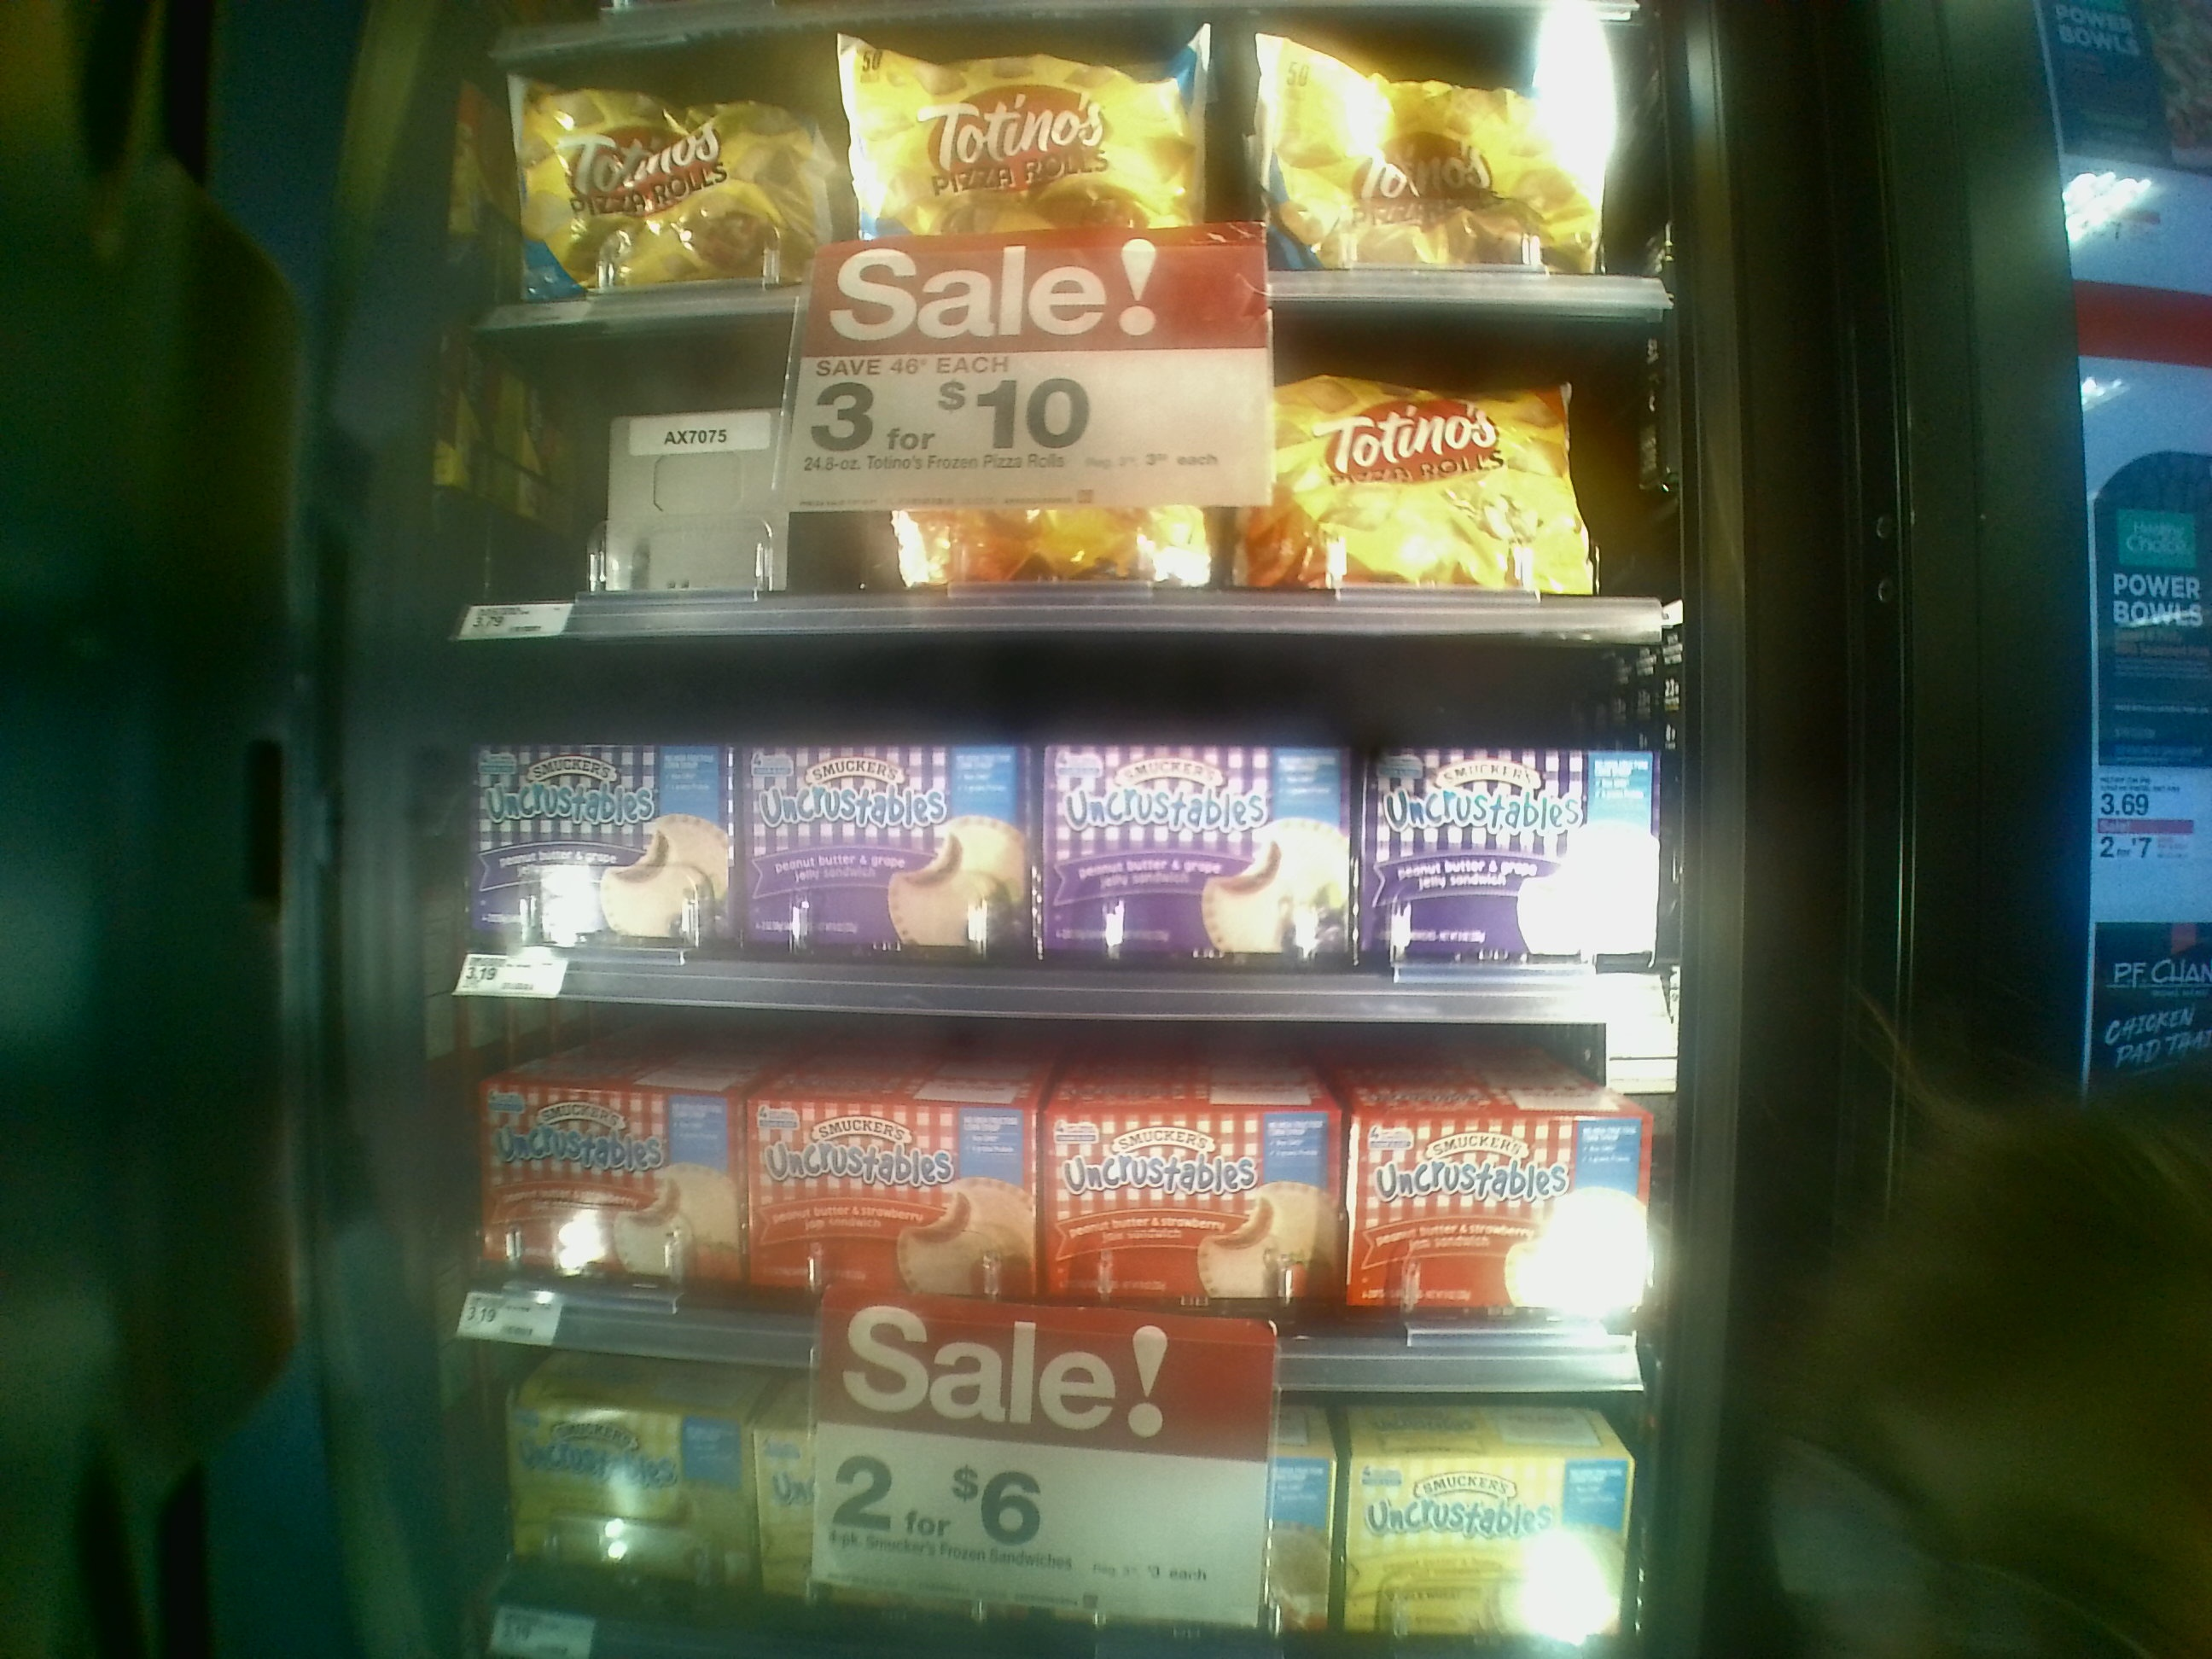shelf: (439, 640, 1677, 1026), (439, 999, 1634, 1391), (446, 308, 1684, 629)
